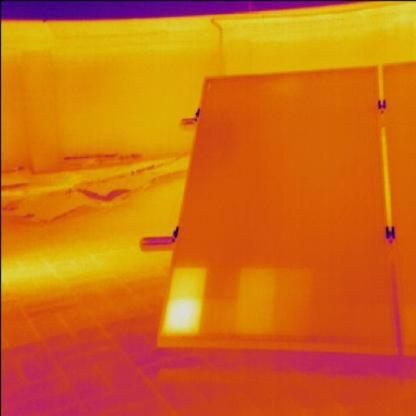anomaly: (234, 263, 286, 344), (159, 265, 213, 340)
